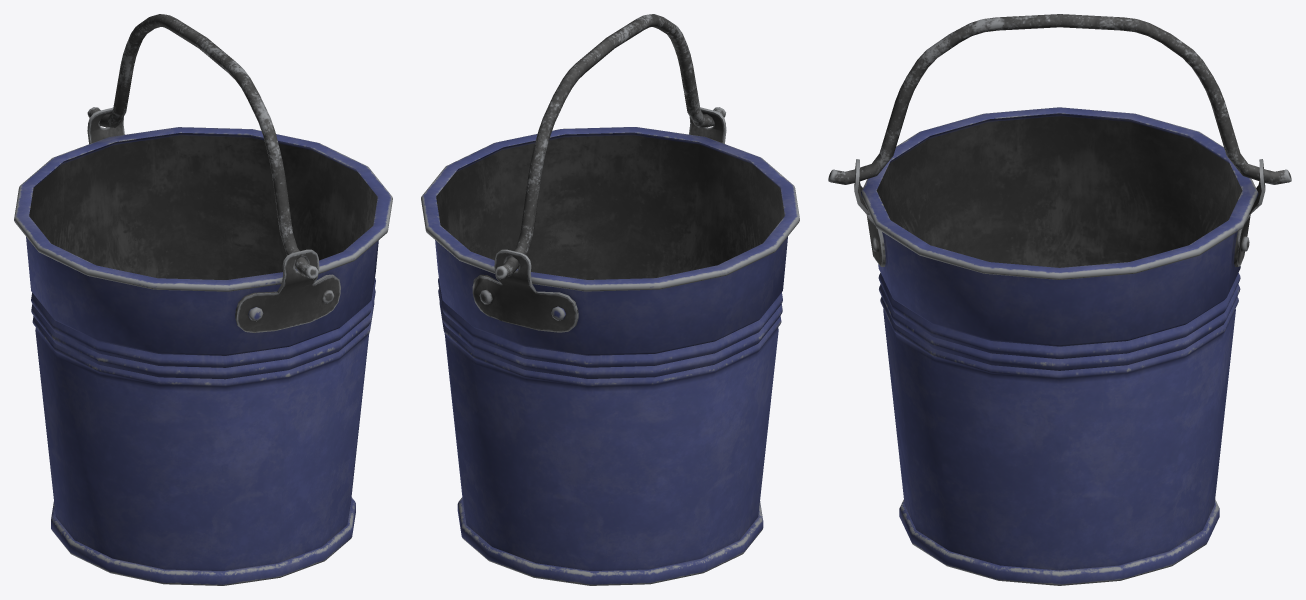
The model's file is SM_Bucket_09.fbx.
3 renders of one model, left to right at view 1: azimuth 30°, elevation 25°; view 2: azimuth 150°, elevation 25°; view 3: azimuth 270°, elevation 25°, orthographic. The views are drawn at different scales.
Parts seen in each view (by area): view 1: SM_Bucket_09; view 2: SM_Bucket_09; view 3: SM_Bucket_09.
Part boxes in pixels (x1=…): SM_Bucket_09: x1=14, y1=14, x2=392, y2=585; SM_Bucket_09: x1=421, y1=14, x2=799, y2=585; SM_Bucket_09: x1=828, y1=14, x2=1291, y2=585.
Bounding box in the file's own units: 32.77 × 38.22 × 45.96.
1 material, 1 textured.
